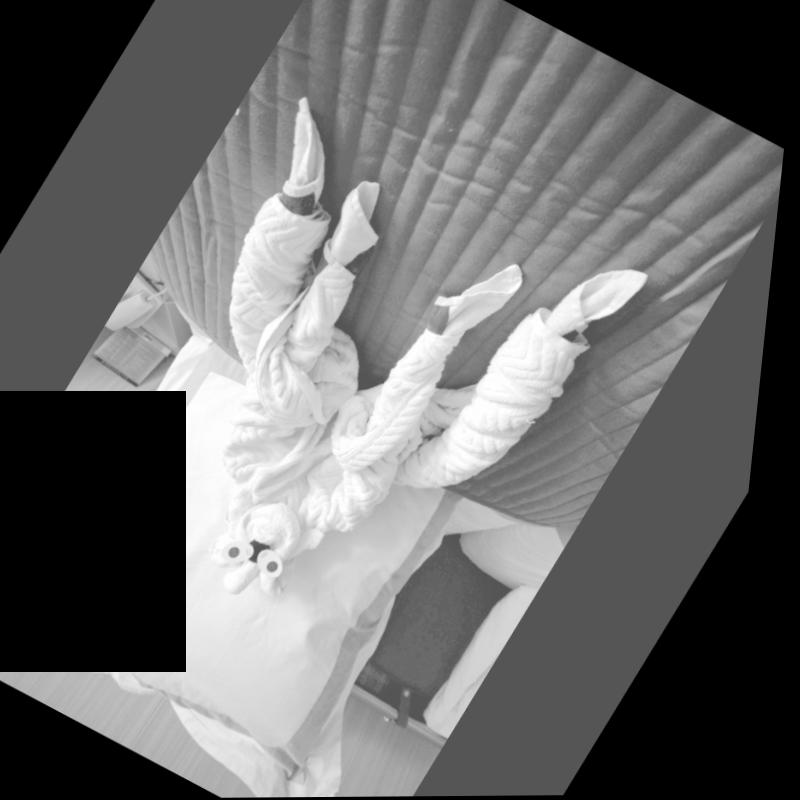pillow: (0, 318, 540, 800), (0, 321, 540, 800)
